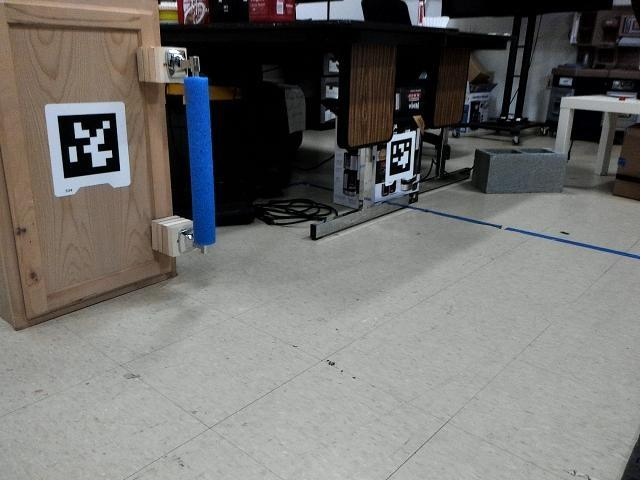noodle_handle: (173, 64, 220, 251)
